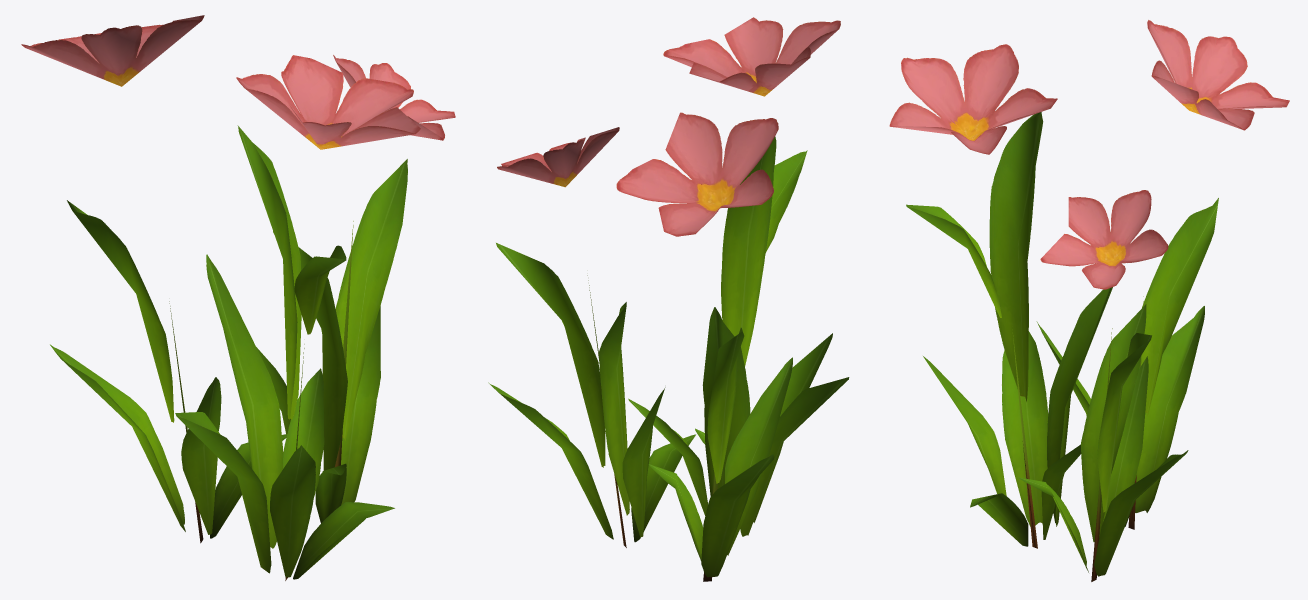
Rendered from Flower_3_Group@lod.gltf.
3 views of the same model, side by side, from view 1: azimuth 30°, elevation 25°; view 2: azimuth 150°, elevation 25°; view 3: azimuth 270°, elevation 25° (orthographic). The views are drawn at different scales.
Parts seen in each view (by area): view 1: Flower_3_Group; view 2: Flower_3_Group; view 3: Flower_3_Group.
Part boxes in pixels (bbox=[...]): Flower_3_Group: bbox=[21, 15, 455, 580]; Flower_3_Group: bbox=[488, 17, 849, 581]; Flower_3_Group: bbox=[889, 20, 1289, 581].
Size of the model in its own units: 1.49 by 2.05 by 1.59.
2 materials, 2 textured.
